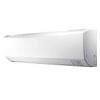ac: (3, 31, 100, 68)
